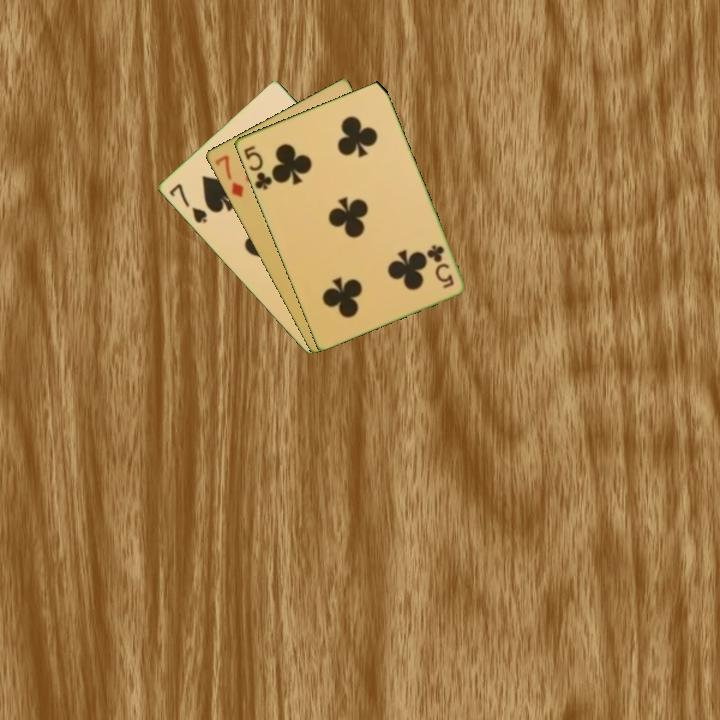5c: (240, 142, 275, 193), (423, 241, 457, 291)
7d: (211, 151, 246, 200)
7s: (165, 180, 210, 226)
